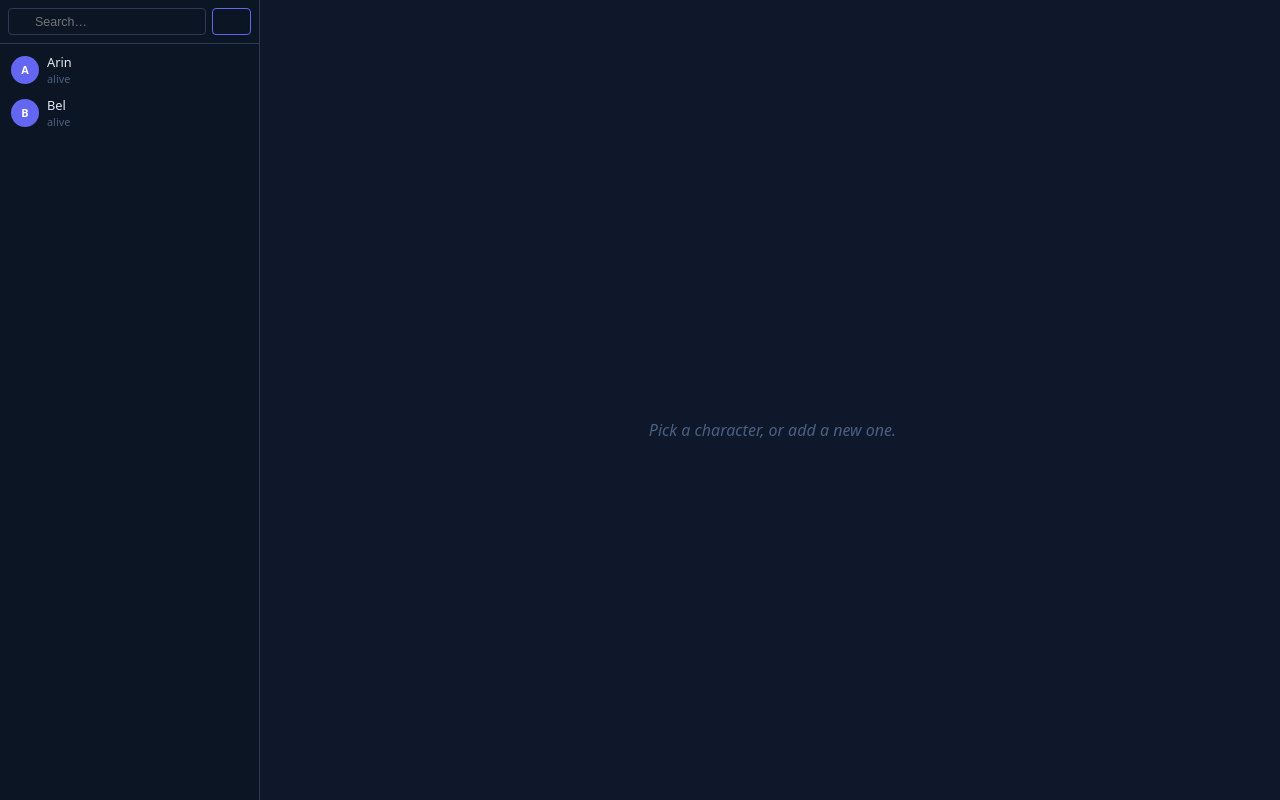
Test: CharactersApp bottom bar › holds the four actions, and only once a character is open
Click the list item with class "ch-row" showing "A Arin alive". click: (41,70)
box: 11,53 -> 72,86
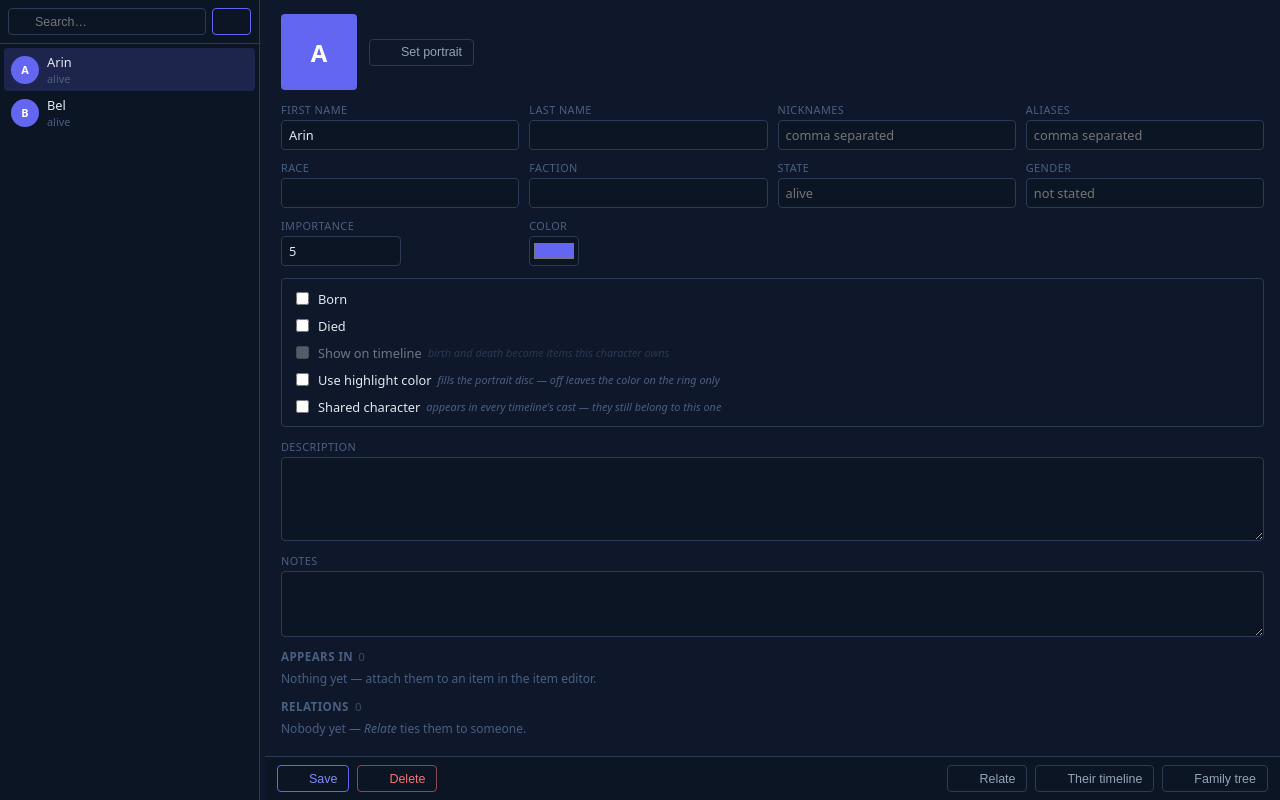
Expected: the footer with class "ch-bar" is shown, 265,756 -> 1279,799
Expected: the button with class "ch-btn--danger" reads "Delete", 357,765 -> 437,792
